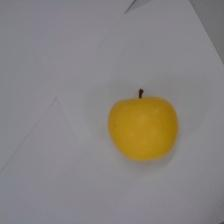yellow: (105, 84, 181, 163)
